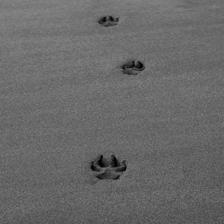dog: (89, 150, 127, 188)
